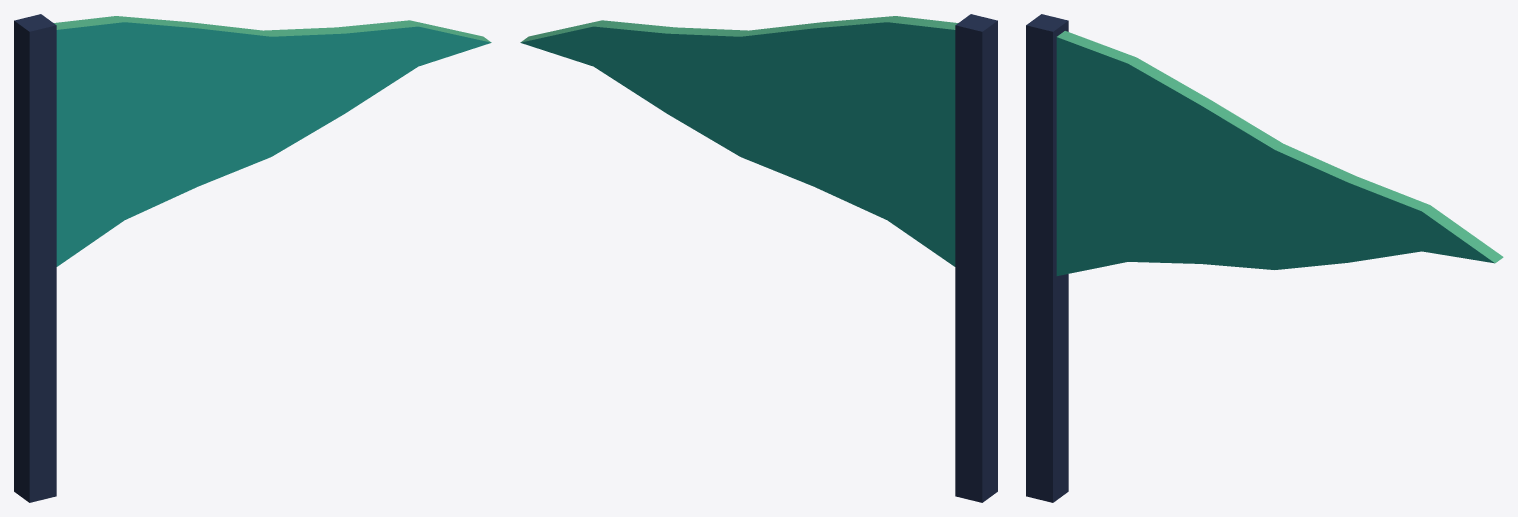
The model's file is flagC.fbx.
3 views of the same model, side by side, from view 1: azimuth 30°, elevation 25°; view 2: azimuth 150°, elevation 25°; view 3: azimuth 330°, elevation 25° (orthographic).
Parts seen in each view (by area): view 1: flagC; view 2: flagC; view 3: flagC.
Boxes of the visible parts, <box> form: flagC: <box>14,14,491,502</box>; flagC: <box>520,14,997,502</box>; flagC: <box>1026,14,1503,502</box>.
Bounding box in the file's own units: 148 × 143 × 8.47.
Materials: 1 (1 with a texture image).
